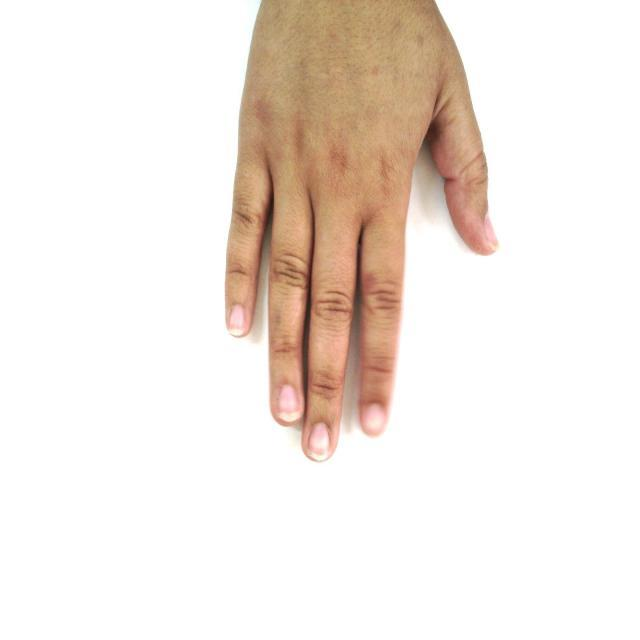Fingernail: (308, 423, 332, 461), (279, 386, 302, 422), (363, 405, 384, 434), (230, 305, 245, 337), (485, 217, 499, 246)
